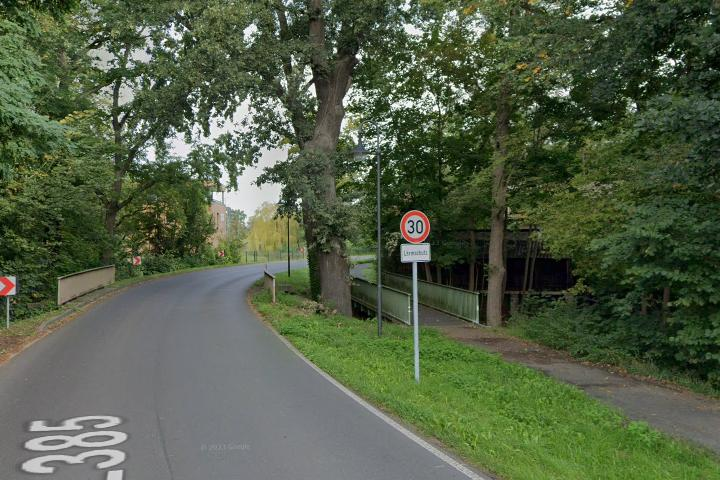traffic_sign: (399, 210, 431, 244)
